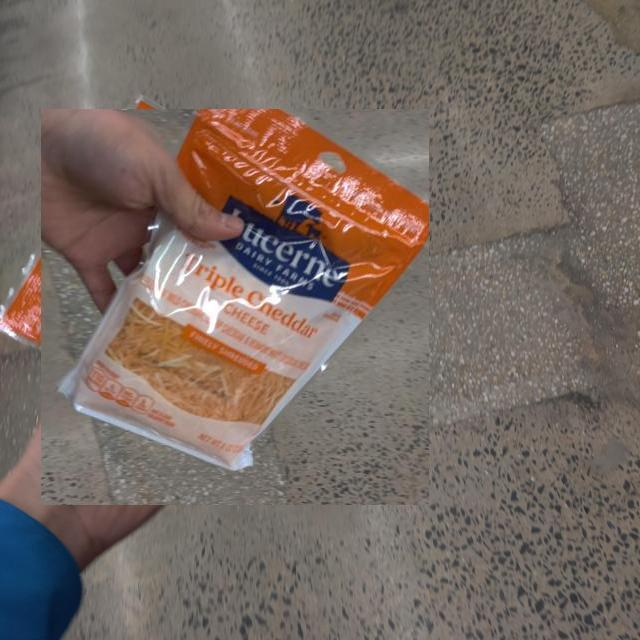Cheese: (40, 110, 429, 505)
